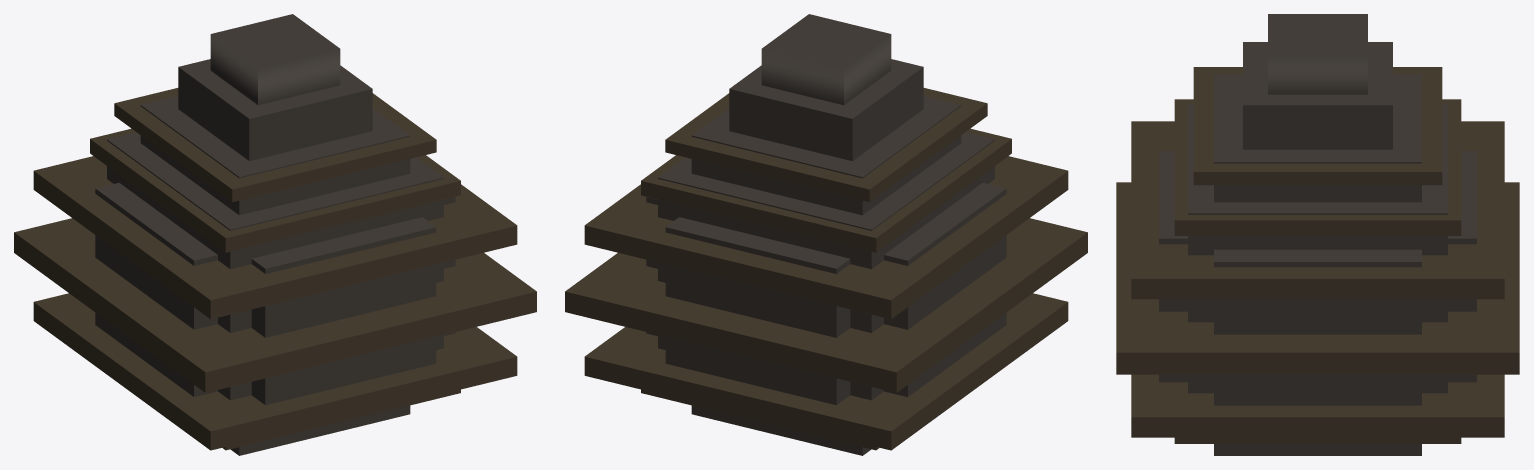
Rendered from 51.SharkTralalero Tralala.fbx.
The picture shows the model from 3 angles, left to right: view 1: azimuth 30°, elevation 25°; view 2: azimuth 150°, elevation 25°; view 3: azimuth 270°, elevation 25°; orthographic projection. The views are drawn at different scales.
Visible parts, largest first — view 1: SharkTralalero_Tralala; view 2: SharkTralalero_Tralala; view 3: SharkTralalero_Tralala.
Boxes of the visible parts, left/top/right/bottom form: SharkTralalero_Tralala: left=14, top=14, right=536, bottom=455; SharkTralalero_Tralala: left=565, top=14, right=1087, bottom=455; SharkTralalero_Tralala: left=1116, top=14, right=1519, bottom=455.
Bounding box in the file's own units: 3.66 × 3.77 × 3.66.
